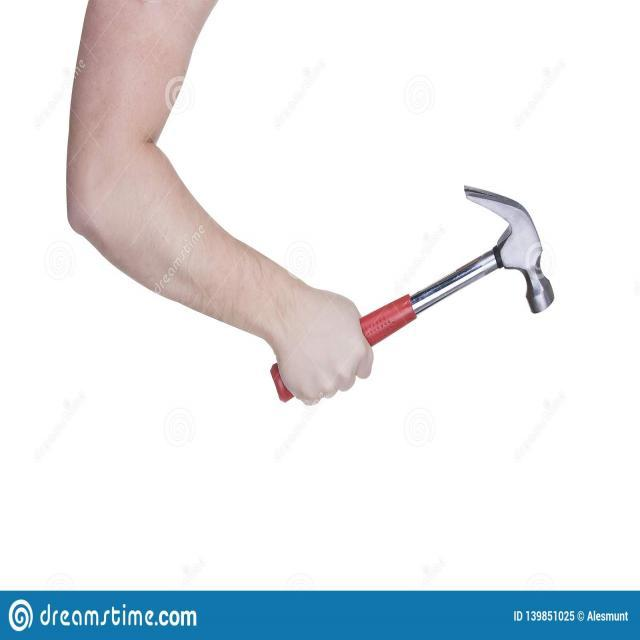hammer: (269, 180, 559, 408)
